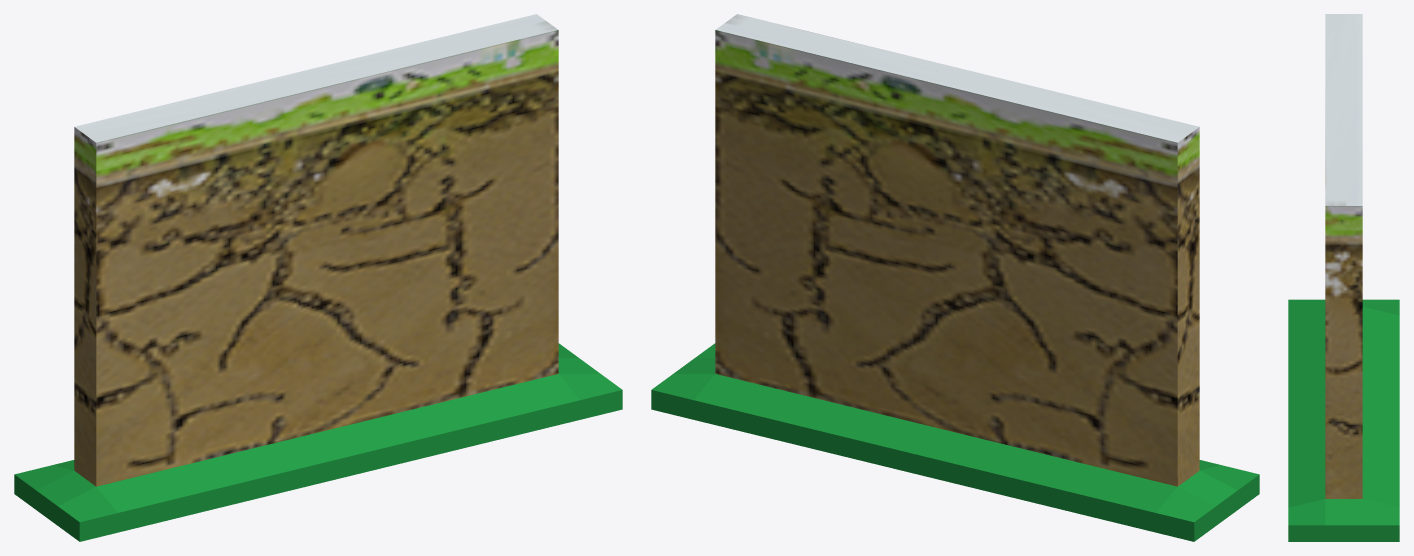
File: WorldItem_HCAntFarm.fbx
The picture shows the model from 3 angles, left to right: view 1: azimuth 30°, elevation 25°; view 2: azimuth 150°, elevation 25°; view 3: azimuth 270°, elevation 25°; orthographic projection. The views are drawn at different scales.
Visible parts, largest first — view 1: Antfarm; view 2: Antfarm; view 3: Antfarm.
Boxes of the visible parts, <box> form: Antfarm: <box>14,14,622,541</box>; Antfarm: <box>651,14,1259,541</box>; Antfarm: <box>1288,14,1399,541</box>.
Size of the model in its own units: 0.2101 by 0.1383 by 0.0439.
